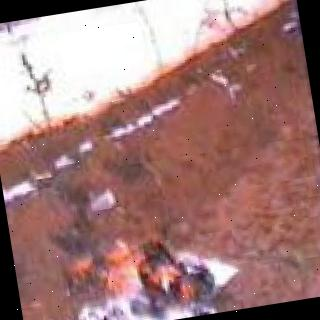fire: (63, 223, 221, 320)
